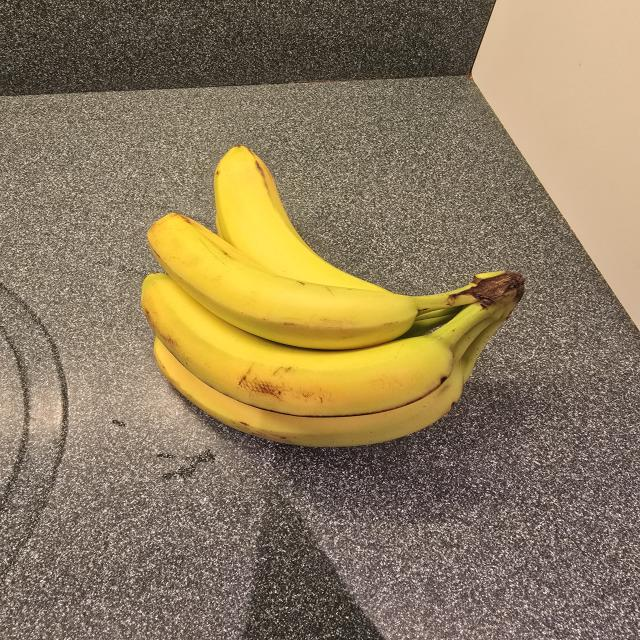Banana: (125, 130, 547, 462)
